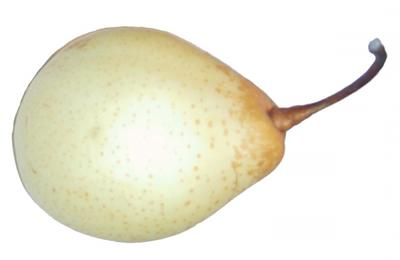pear: (0, 0, 400, 260)
